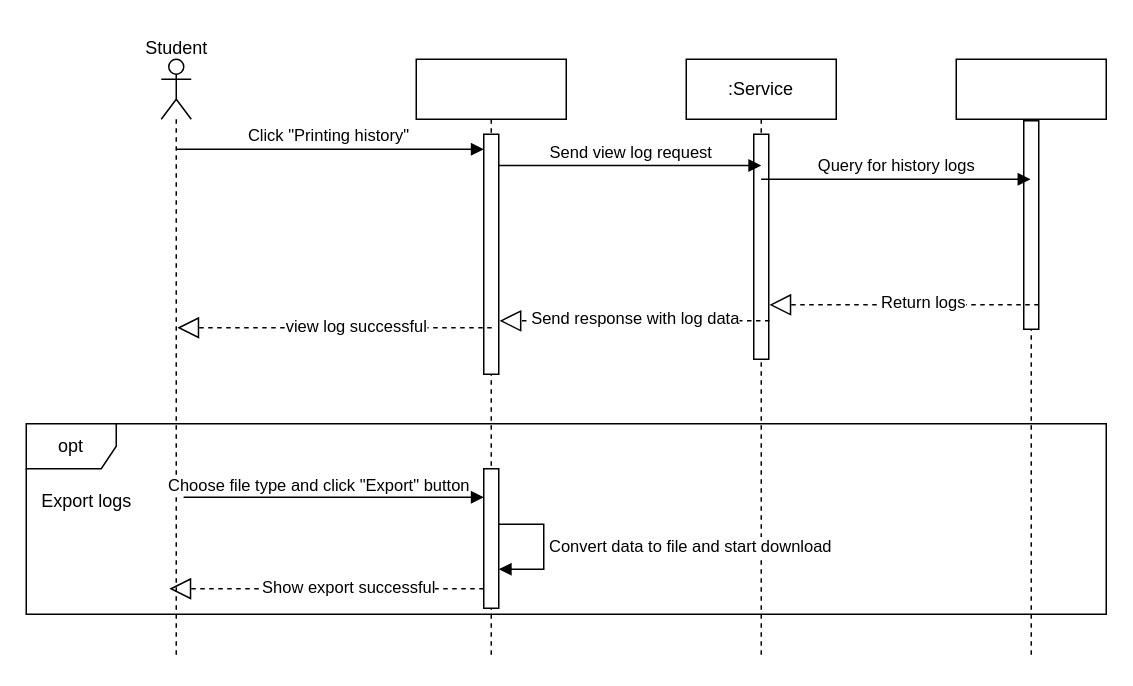
Some shapes in this 1133 by 686 pixel diagram are drawn without their labels. Here are the shapes that lost their labels. From the top down, the centre of each, then its label:
pixel 490 358: :Interface
pixel 1030 358: :Database
